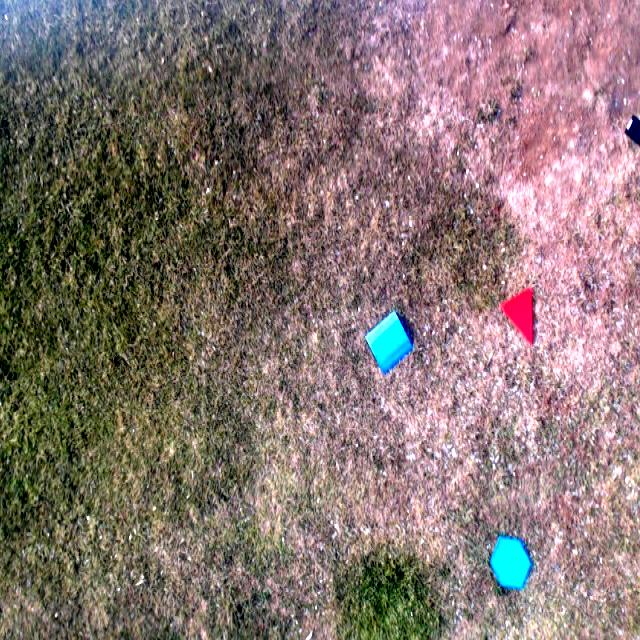blue_hexagon: (490, 532, 533, 596)
blue_square: (364, 312, 414, 376)
red_triangle: (499, 287, 534, 346)
